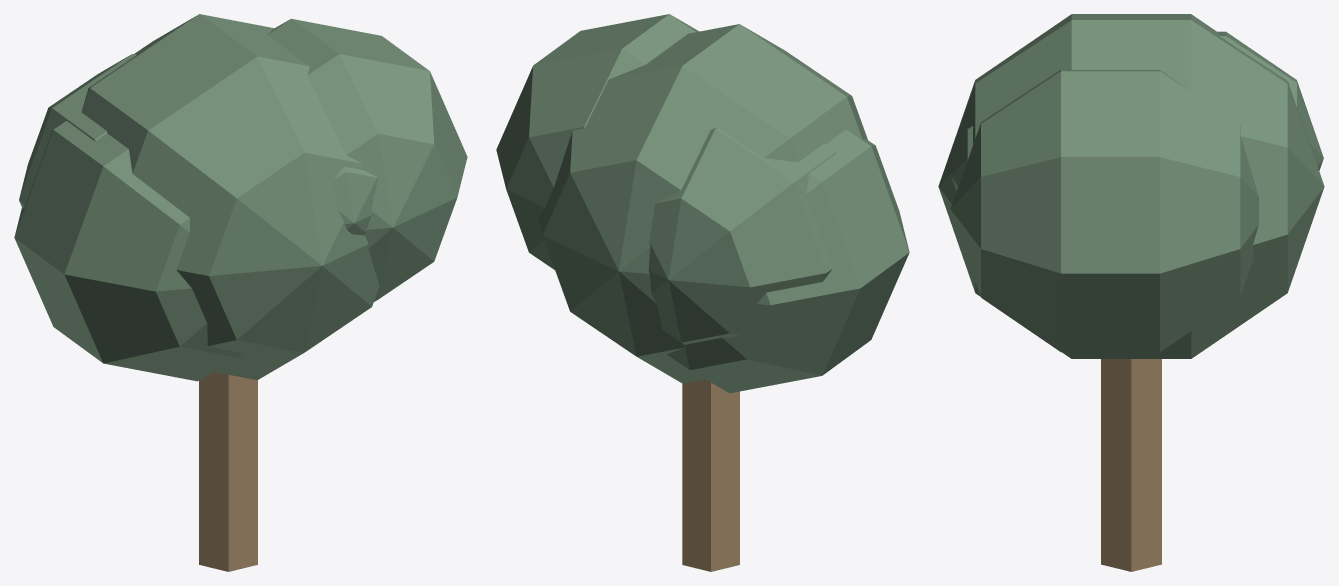
File: mdl_vegetation_tree_mango_001_lod1.glb
The picture shows the model from 3 angles, left to right: view 1: azimuth 30°, elevation 25°; view 2: azimuth 150°, elevation 25°; view 3: azimuth 270°, elevation 25°; orthographic projection. The views are drawn at different scales.
Parts seen in each view (by area): view 1: m_manigua, m_madera; view 2: m_manigua, m_madera; view 3: m_manigua, m_madera.
Boxes of the visible parts, x1,y1,x2,y2 form: m_manigua: [14, 14, 467, 381]; m_madera: [199, 372, 257, 571]; m_manigua: [496, 14, 909, 393]; m_madera: [682, 379, 739, 571]; m_manigua: [938, 14, 1324, 358]; m_madera: [1101, 359, 1161, 571].
Size of the model in its own units: 4.43 by 5.7 by 3.71.
